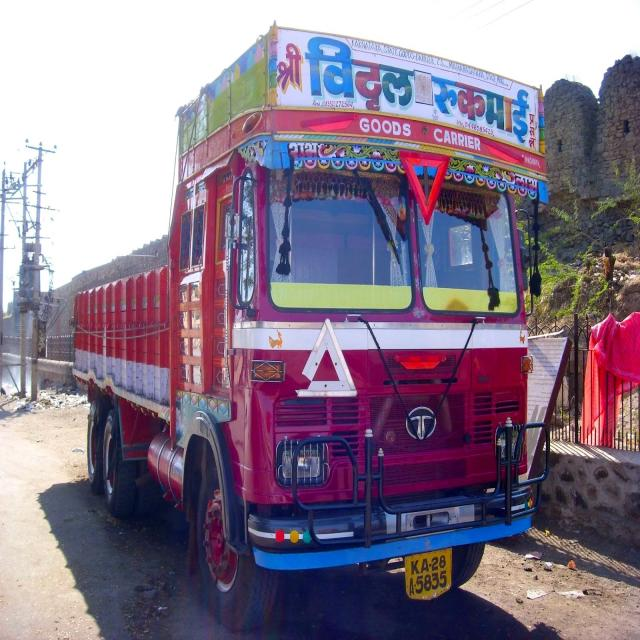Truck: (69, 48, 538, 617)
